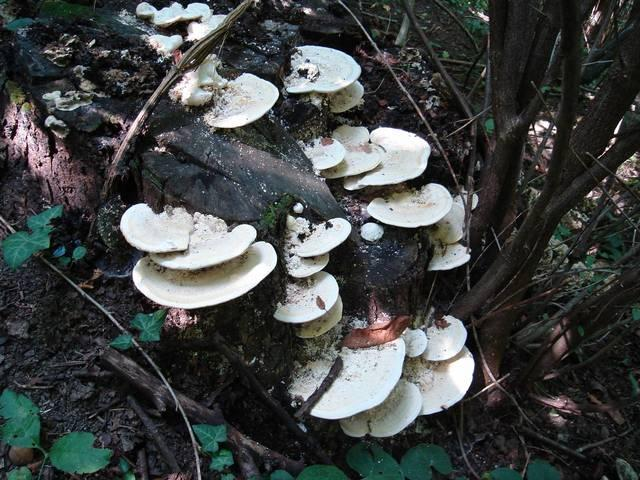poisonous_mushroom: (141, 0, 478, 458), (118, 201, 277, 309)
